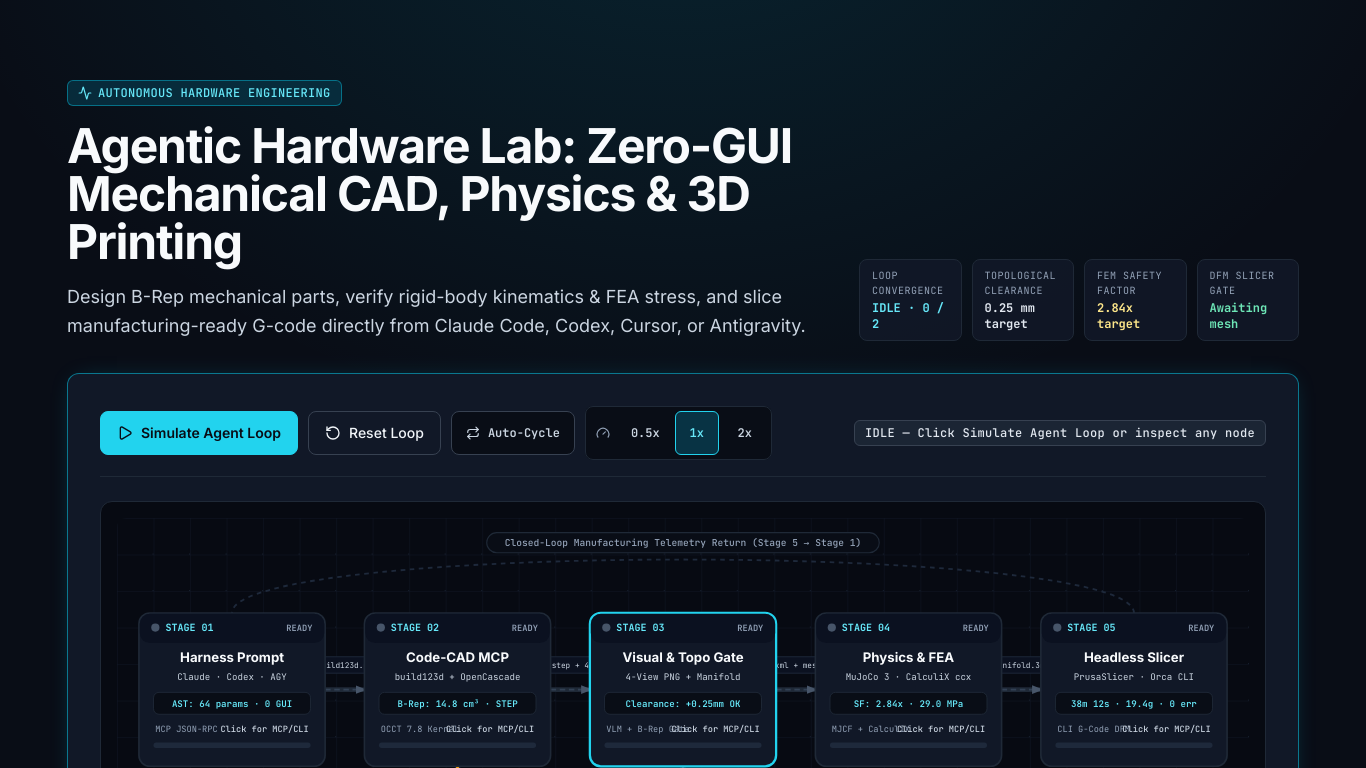
Test: HeroArchitectureMap component › runs the 60fps closed-loop simulation through failure, self-correction, pause/resume, and pass
Step 1. Click the button "Simulate Agent Loop" → (199, 432), box 100,410 -> 298,454
Wait 1650 ms
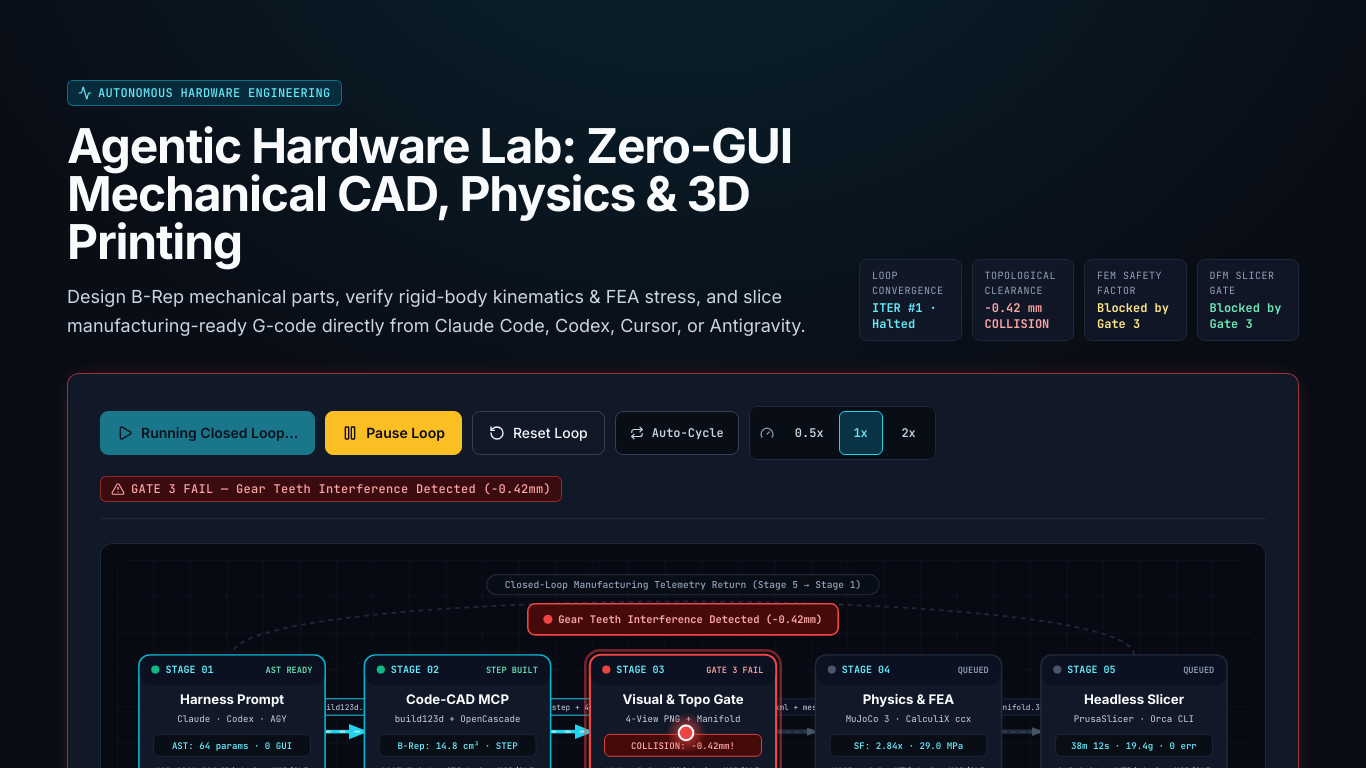
Check: the element with test id "hero-telemetry-packet" is shown, box 666,712 -> 706,752
Check: the button "Running Closed Loop..." is disabled, box 100,410 -> 315,454
Check: the text "GATE 3 FAIL — Gear Teeth Interference Detected (-0.42mm)" is shown, box 131,480 -> 551,496
Pause and resume loop
Step 2. Click the button "Pause Loop" → (394, 432), box 325,410 -> 462,454
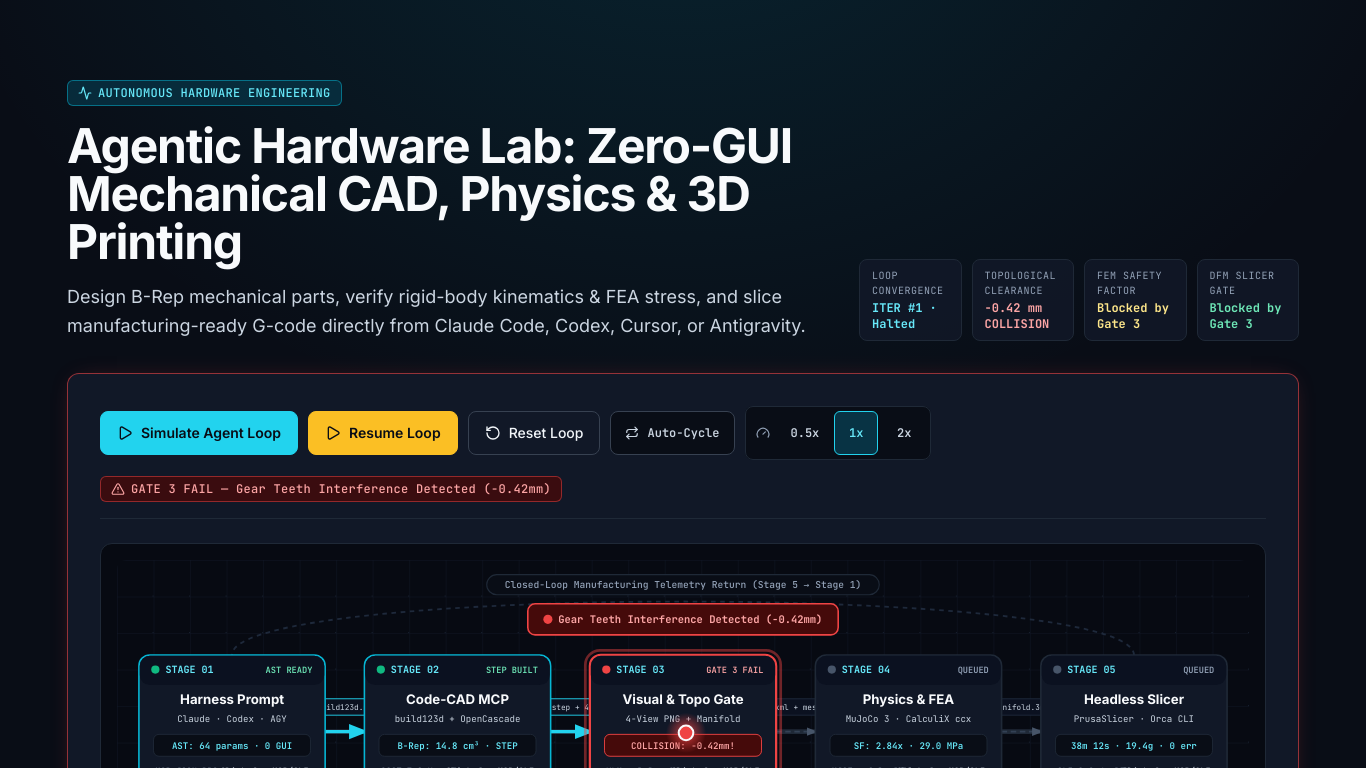
Check: the button "Resume Loop" is shown
Step 3. Click the button "Resume Loop" → (383, 432), box 308,410 -> 458,454
Wait 6000 ms
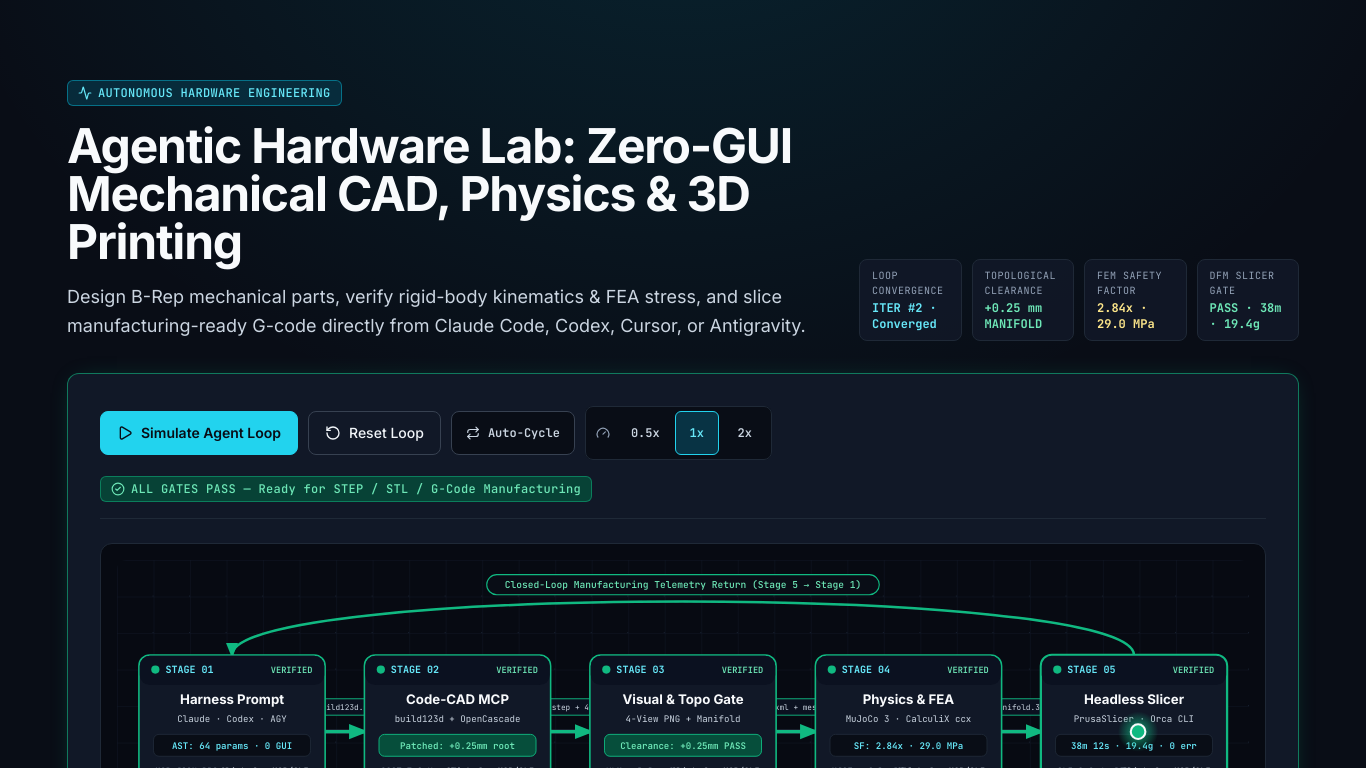
Check: the text "ALL GATES PASS — Ready for STEP / STL / G-Code Manufacturing" is shown, box 131,480 -> 581,496
Reset loop
Step 4. Click the button "Reset Loop" → (374, 432), box 308,410 -> 441,454
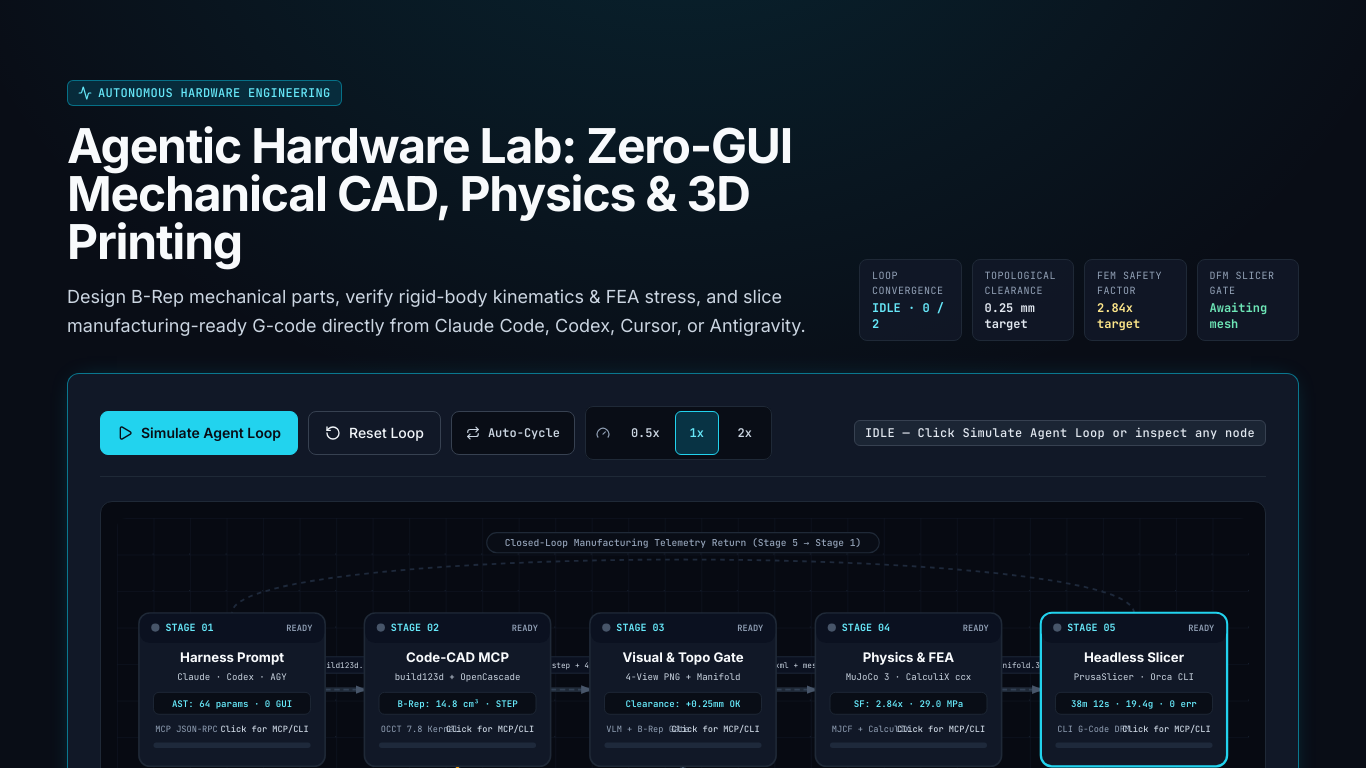
Check: the text "IDLE — Click Simulate Agent Loop or inspect any node" is shown, box 865,424 -> 1255,440
